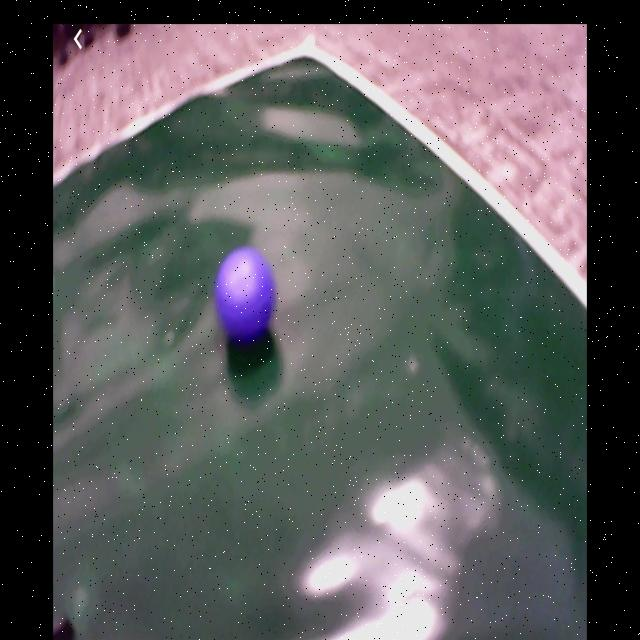ball: (218, 247, 275, 346)
